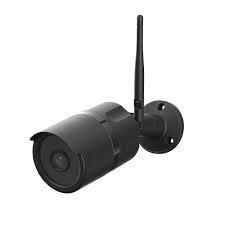tutu: (30, 14, 183, 194)
